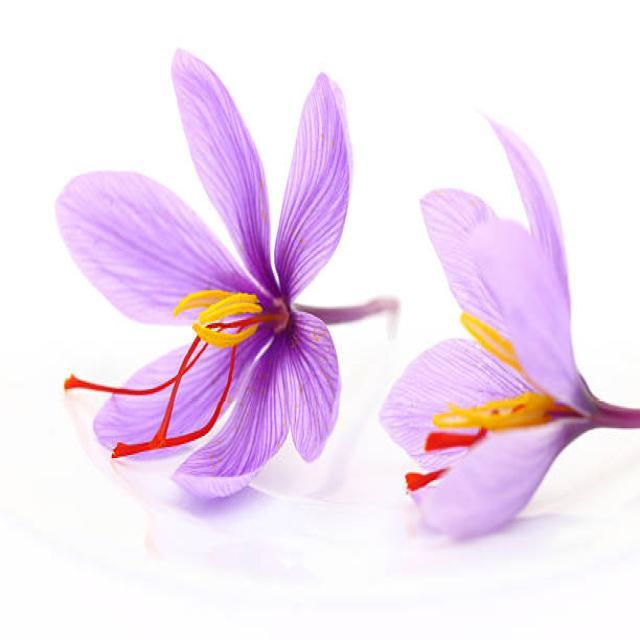Flower: (94, 120, 348, 484), (398, 193, 588, 564)
stigma: (399, 391, 568, 451), (46, 352, 235, 402), (100, 411, 243, 460)
